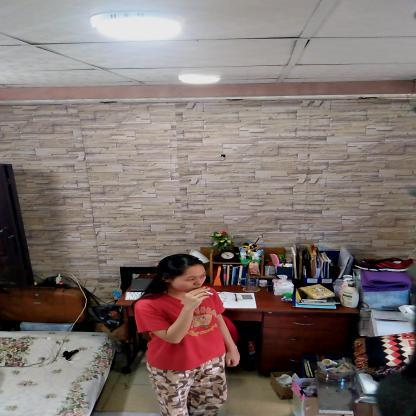cigarette: (204, 290, 214, 296)
person: (135, 253, 244, 415)
